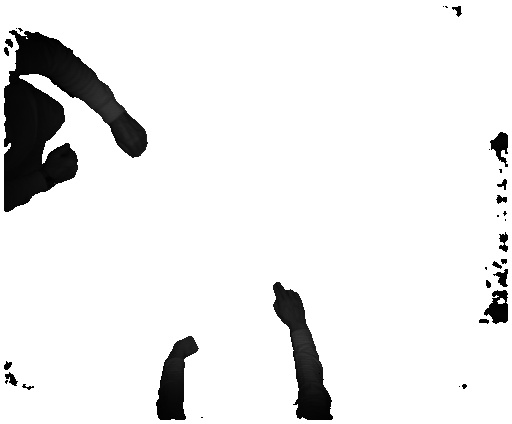fist: (113, 115, 151, 159), (46, 143, 79, 187), (172, 336, 199, 363)
hand: (272, 280, 311, 326)
